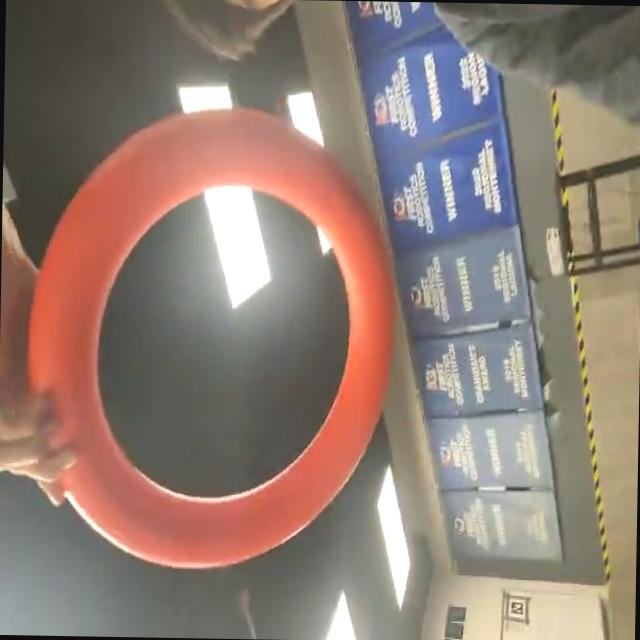note: (19, 106, 400, 574)
